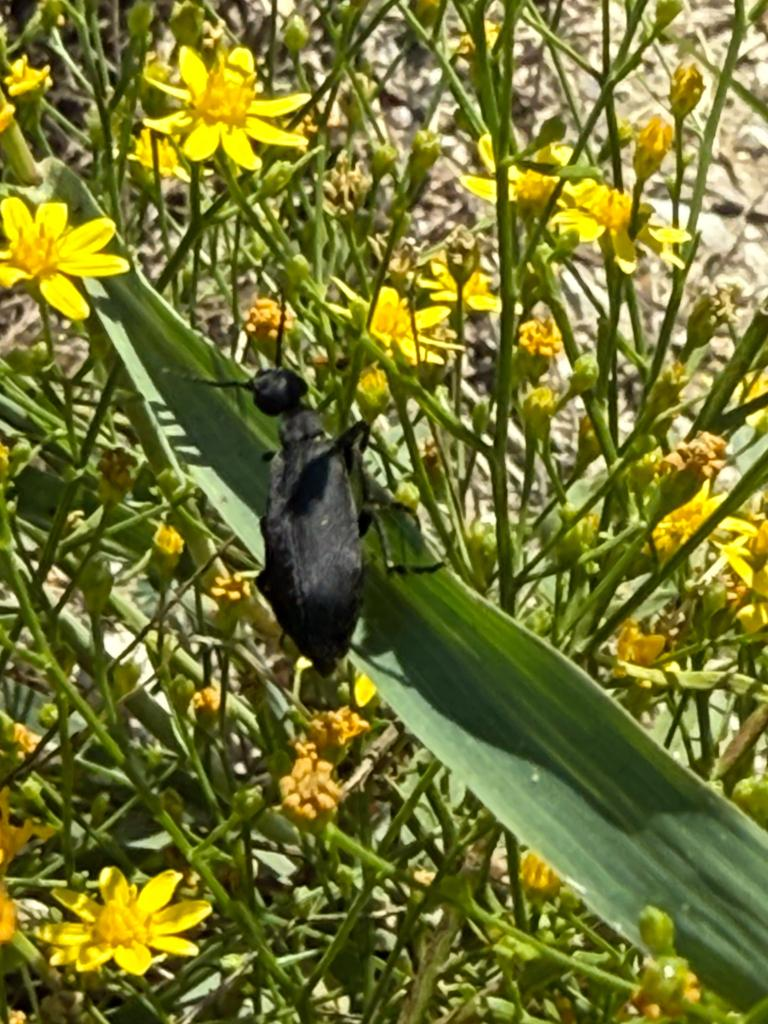blister_beetle: (109, 246, 491, 714)
